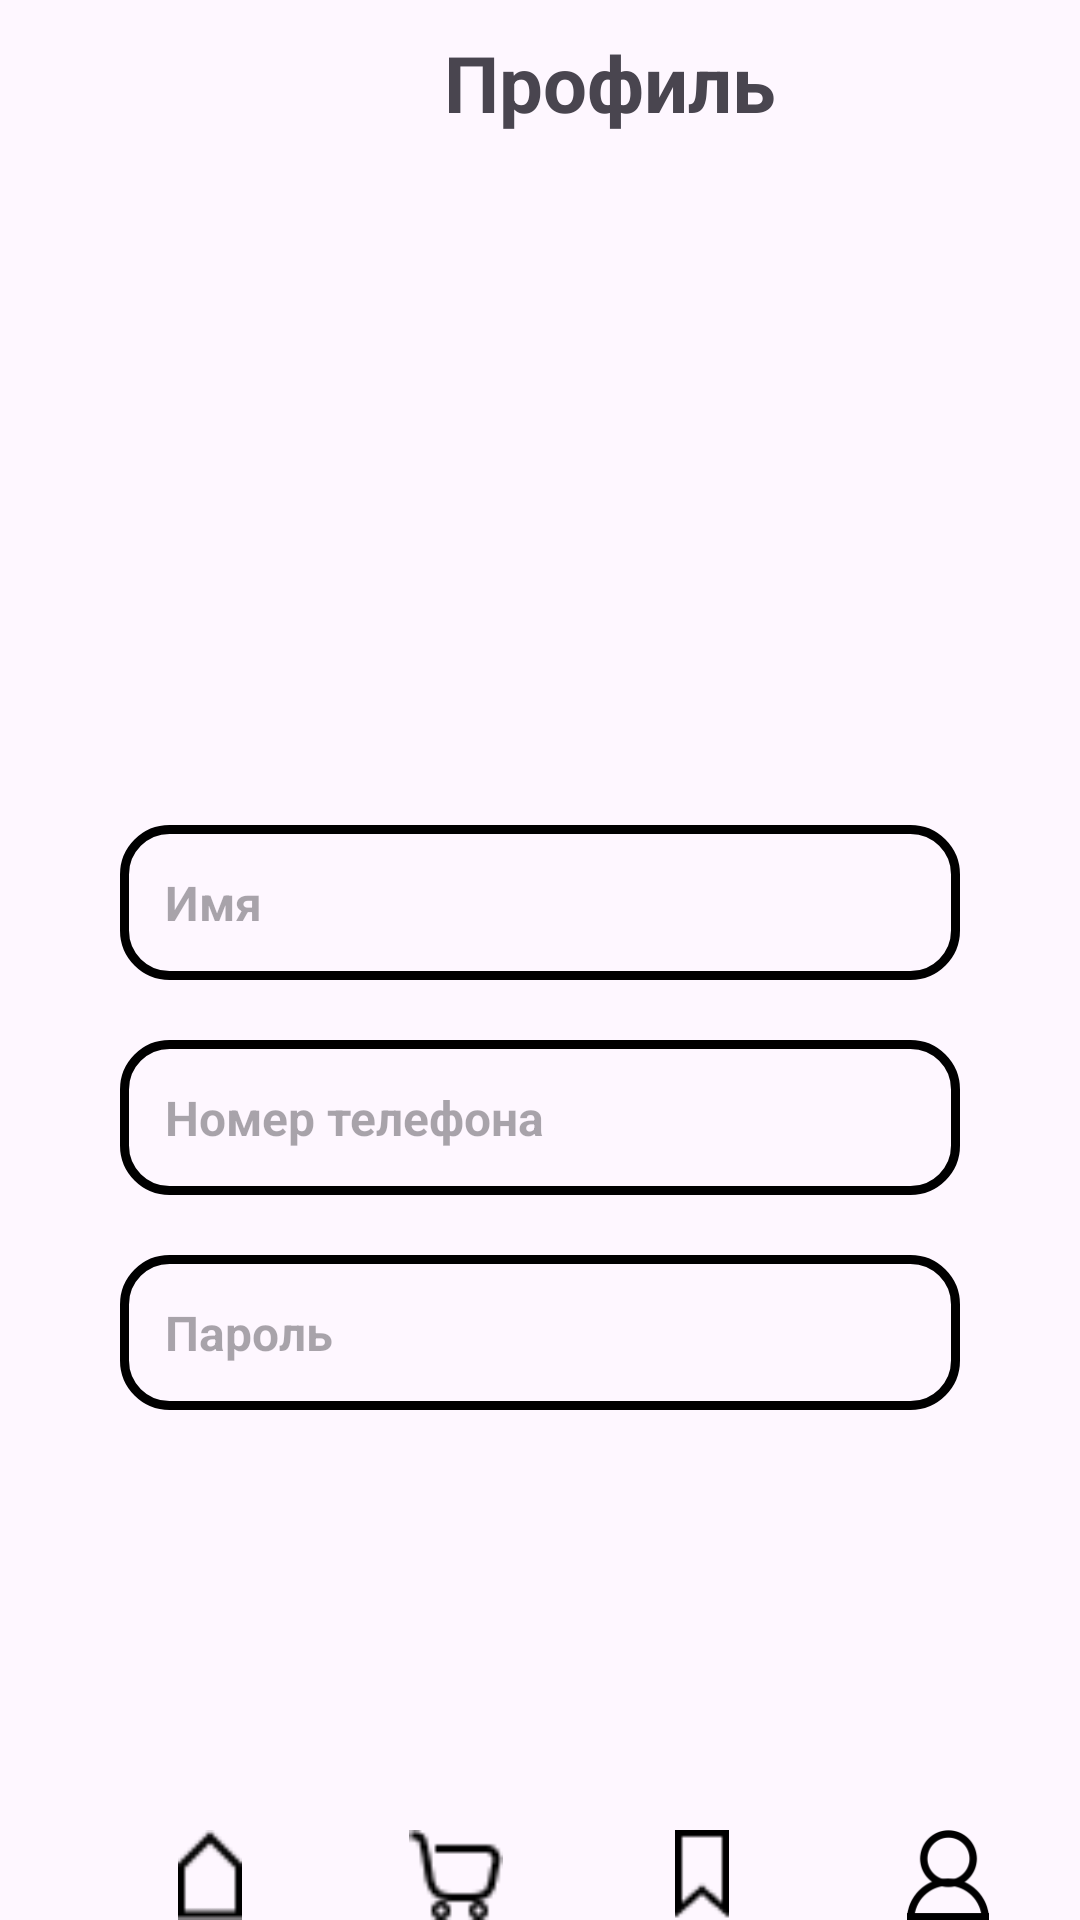

Locate icon controls on the screen. Image size 1080px x 1920px, boxes as rect(x1, y1, x2, y2).
cart: rect(409, 1830, 503, 1920)
favorites: rect(675, 1830, 729, 1918)
home: rect(178, 1830, 242, 1920)
user: rect(907, 1830, 989, 1920)
